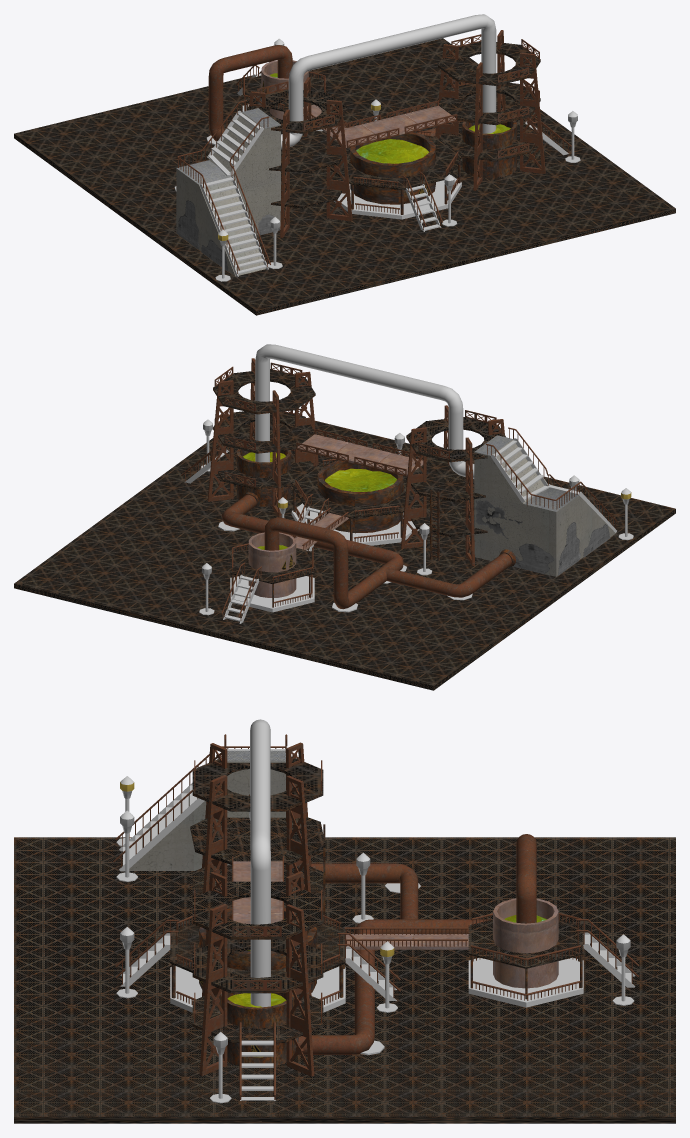
File: Zavod.fbx
3 views of the same model, one above another, from view 1: azimuth 30°, elevation 25°; view 2: azimuth 150°, elevation 25°; view 3: azimuth 270°, elevation 25° (orthographic). The views are drawn at different scales.
Parts seen in each view (by area): view 1: pCube74, pCube16, pCylinder36, pCylinder111, polySurface646, pCylinder54, pCylinder2, pCylinder33, polySurface832, polySurface828, polySurface833, polySurface405 (+14 smaller); view 2: pCube74, pCube16, pCylinder33, pCylinder36, pCylinder111, pCylinder54, pCylinder2, polySurface832, pCylinder13, polySurface828, polySurface833, polySurface405 (+18 smaller); view 3: pCube74, pCylinder33, pCylinder111, pCylinder36, pCylinder54, pCube16, pCylinder13, polySurface832, polySurface27, polySurface11, polySurface833, polySurface831 (+16 smaller).
Boxes of the visible parts, x1,y1,x2,y2 form: pCube74: (14,38,675,315); pCube16: (176,108,280,276); pCylinder36: (281,14,496,149); pCylinder111: (435,30,545,190); polySurface646: (200,110,268,277); pCylinder54: (249,77,352,237); pCylinder2: (350,132,435,204); pCylinder33: (176,45,440,185); polySurface832: (438,42,540,85); polySurface828: (330,135,461,190); polySurface833: (439,82,540,125); polySurface405: (330,105,455,147); pCube74: (14,420,675,690); pCube16: (474,435,615,576); pCylinder33: (222,494,511,609); pCylinder36: (255,344,474,478); pCylinder111: (207,358,318,517); pCylinder54: (401,405,504,565); pCylinder2: (317,460,403,533); polySurface832: (213,369,315,414); pCylinder13: (248,532,296,597); polySurface828: (291,464,423,518); polySurface833: (213,411,314,453); polySurface405: (297,434,426,475); pCube74: (14,837,675,1123); pCylinder33: (298,834,536,1054); pCylinder111: (199,871,314,1076); pCylinder36: (249,719,270,1007); pCylinder54: (202,742,311,893); pCube16: (129,750,285,870); pCylinder13: (493,898,558,988); polySurface832: (192,881,323,939); polySurface27: (190,816,325,864); polySurface11: (192,756,323,811); polySurface833: (192,938,323,993); polySurface831: (468,957,583,1007).
Bounding box in the file's own units: 36.62 × 13.28 × 36.62.
